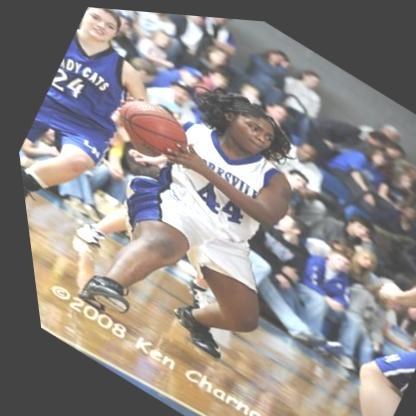basketball: (102, 85, 197, 168)
